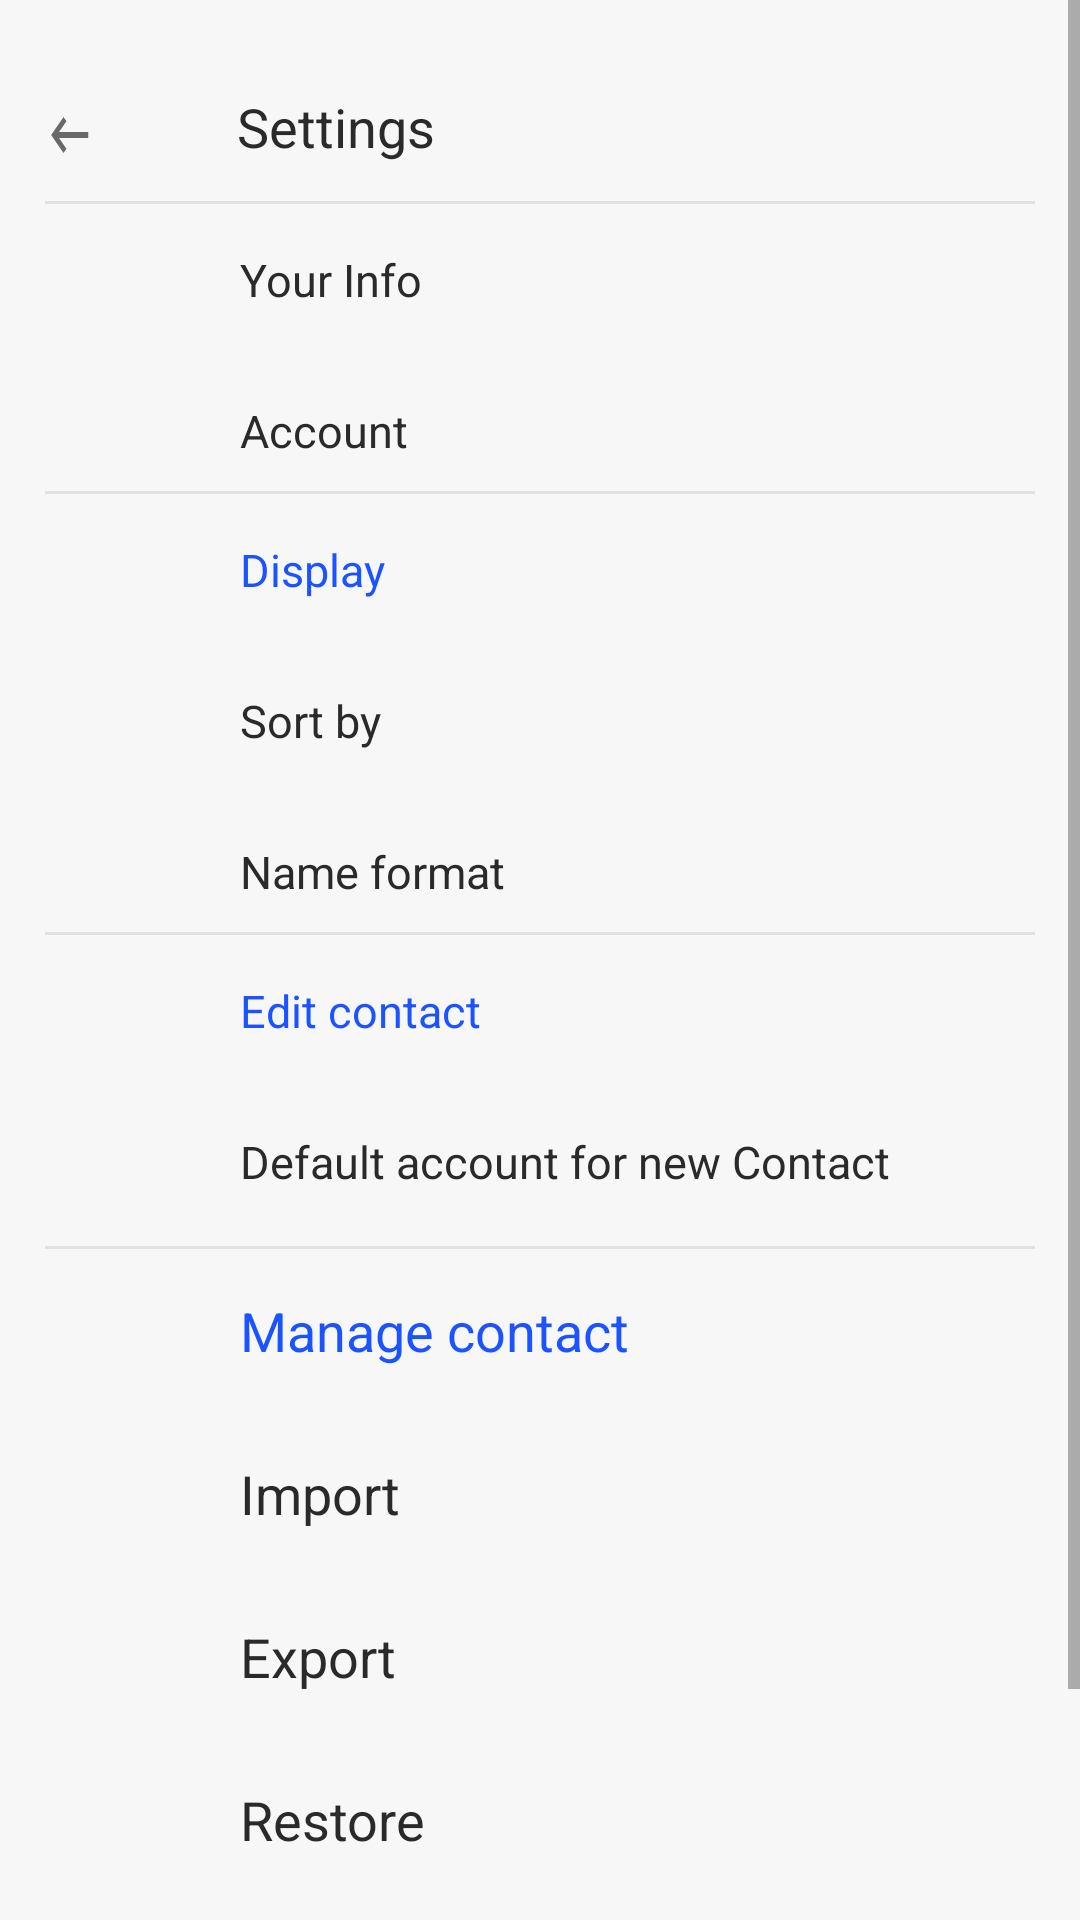

Icon click points for this 1080×1920 phone screenshot, format [x,y]:
keyboard backspace: [70,135]
